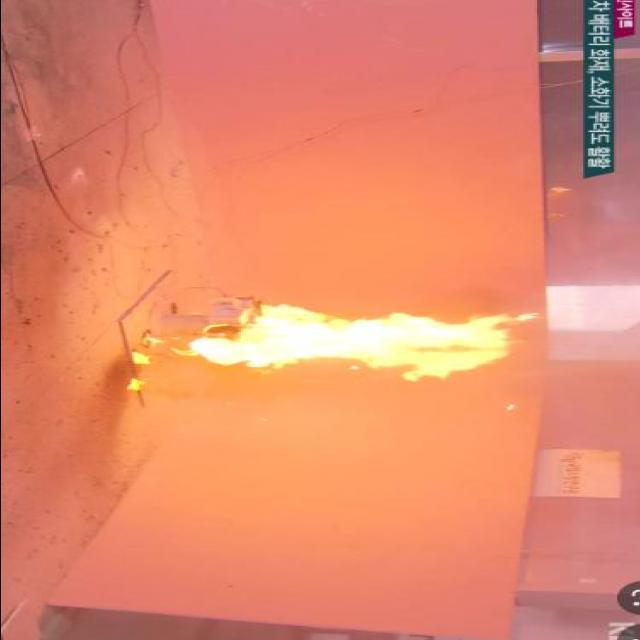Fire: (187, 303, 540, 381)
